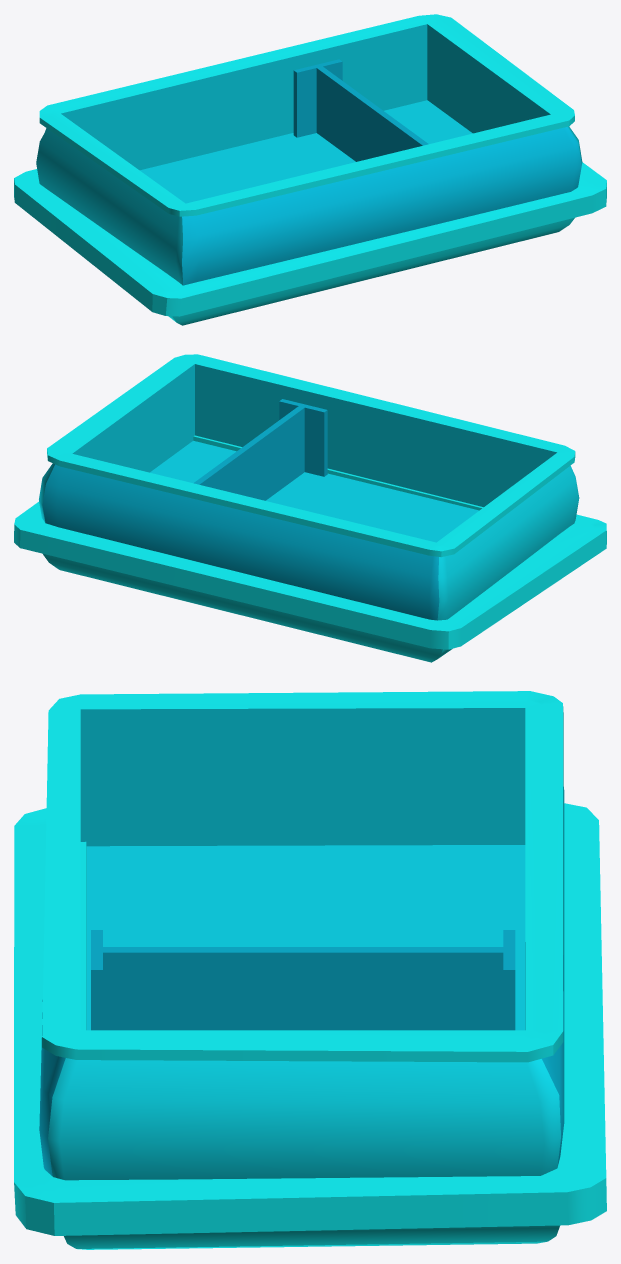
The model's file is Aseet_05_LunchBox.fbx.
3 renders of one model, top to bottom at view 1: azimuth 30°, elevation 25°; view 2: azimuth 150°, elevation 25°; view 3: azimuth 270°, elevation 25°, orthographic. The views are drawn at different scales.
Visible parts, largest first — view 1: SK_05_LunchBox; view 2: SK_05_LunchBox; view 3: SK_05_LunchBox.
Boxes of the visible parts, bbox=[...] form: SK_05_LunchBox: bbox=[14, 14, 606, 325]; SK_05_LunchBox: bbox=[14, 354, 606, 662]; SK_05_LunchBox: bbox=[14, 691, 606, 1249].
Size of the model in its own units: 2.14 by 0.5903 by 1.34.
Materials: 1 (1 with a texture image).
